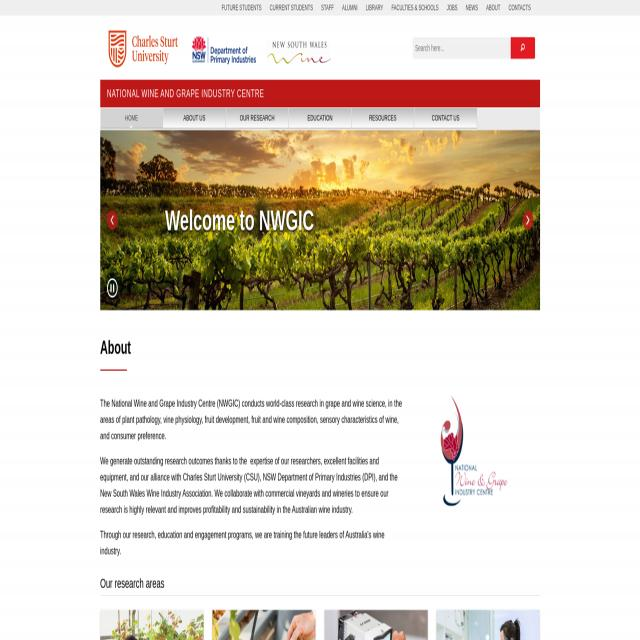button: (100, 130, 541, 311), (406, 386, 540, 537), (324, 609, 428, 640), (108, 29, 188, 68), (212, 610, 316, 640), (436, 610, 540, 640), (100, 610, 203, 640), (192, 35, 256, 64), (267, 35, 331, 64), (288, 108, 352, 128), (100, 108, 163, 128), (163, 108, 226, 128), (414, 108, 477, 128), (226, 108, 288, 128), (352, 108, 414, 128), (511, 37, 535, 59), (107, 278, 118, 297), (523, 210, 533, 230), (107, 211, 118, 229)
field: (413, 37, 511, 59)
